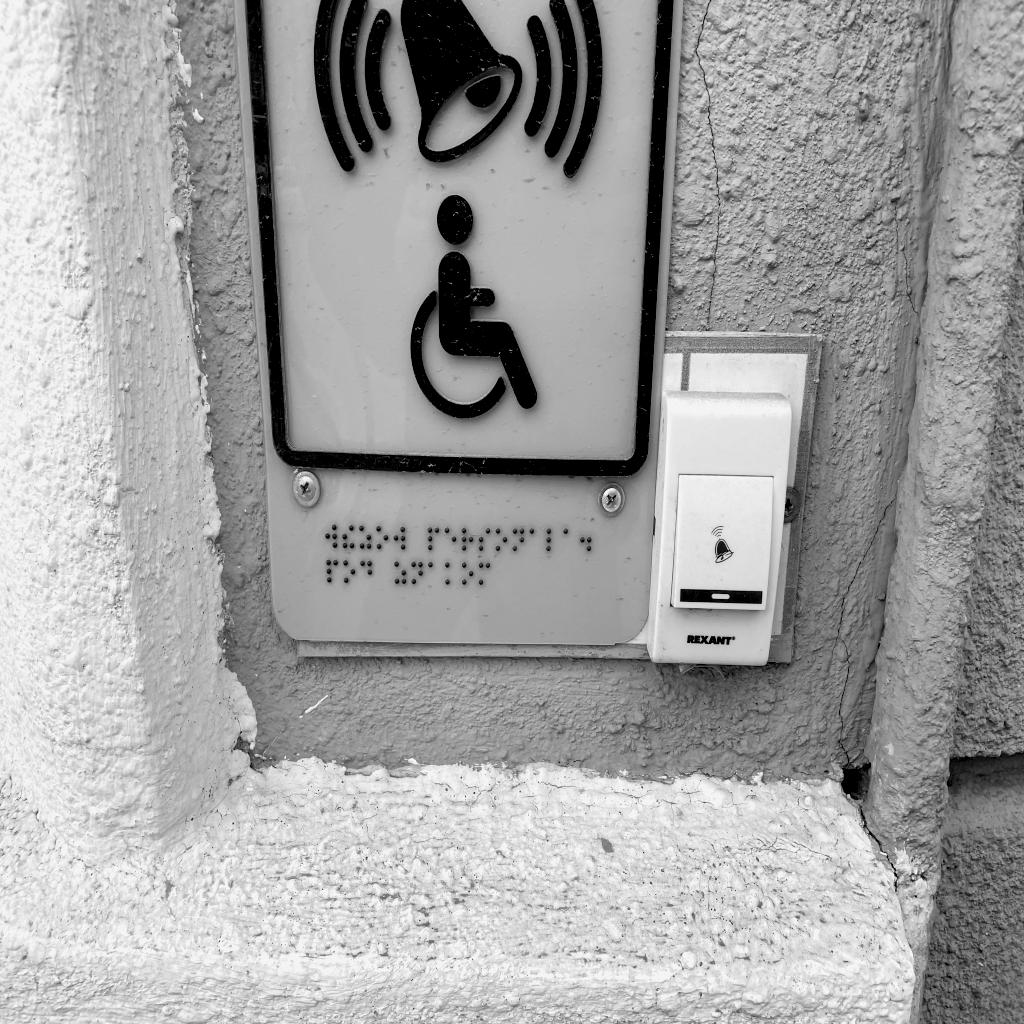_n: (512, 527, 524, 552), (411, 561, 423, 585)
a: (529, 528, 542, 554), (428, 561, 440, 586), (563, 528, 575, 552)
d: (360, 560, 372, 585)
e: (444, 527, 457, 553)
ii: (342, 524, 355, 549)
k: (445, 561, 457, 585)
l: (546, 527, 559, 552)
m: (478, 562, 490, 586)
o: (375, 525, 388, 550), (495, 527, 508, 552), (461, 561, 474, 586), (343, 559, 355, 584)
p: (427, 526, 439, 551), (326, 559, 338, 584)
r: (461, 527, 473, 552)
s: (478, 527, 490, 552)
tochka: (580, 527, 592, 552)
v: (325, 523, 338, 549), (393, 526, 406, 551)
z: (358, 525, 372, 551), (394, 561, 406, 585)
